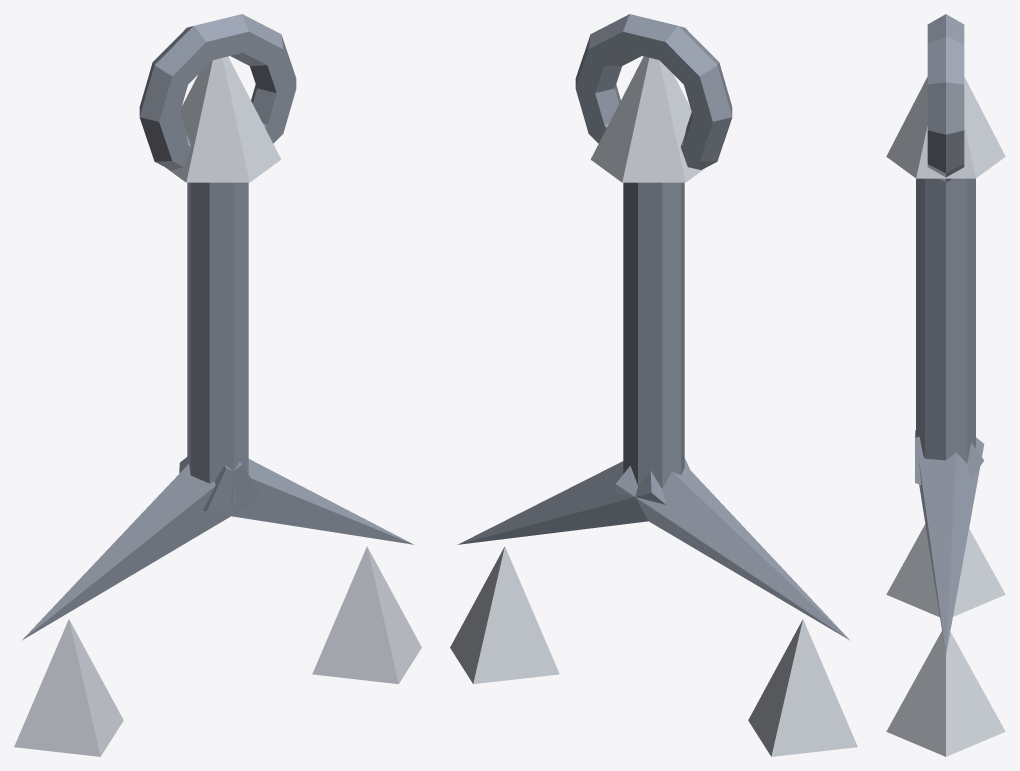
The model's file is anchor.glb.
The picture shows the model from 3 angles, left to right: view 1: azimuth 30°, elevation 25°; view 2: azimuth 150°, elevation 25°; view 3: azimuth 270°, elevation 25°; orthographic projection. The views are drawn at different scales.
Visible parts, largest first — view 1: PangAnchorShank; view 2: PangAnchorShank; view 3: PangAnchorShank.
Part boxes in pixels (left/top/right/bottom): PangAnchorShank: left=14, top=14, right=421, bottom=756; PangAnchorShank: left=450, top=14, right=857, bottom=756; PangAnchorShank: left=886, top=14, right=1005, bottom=756.
Bounding box in the file's own units: 1.04 × 1.65 × 0.28.
